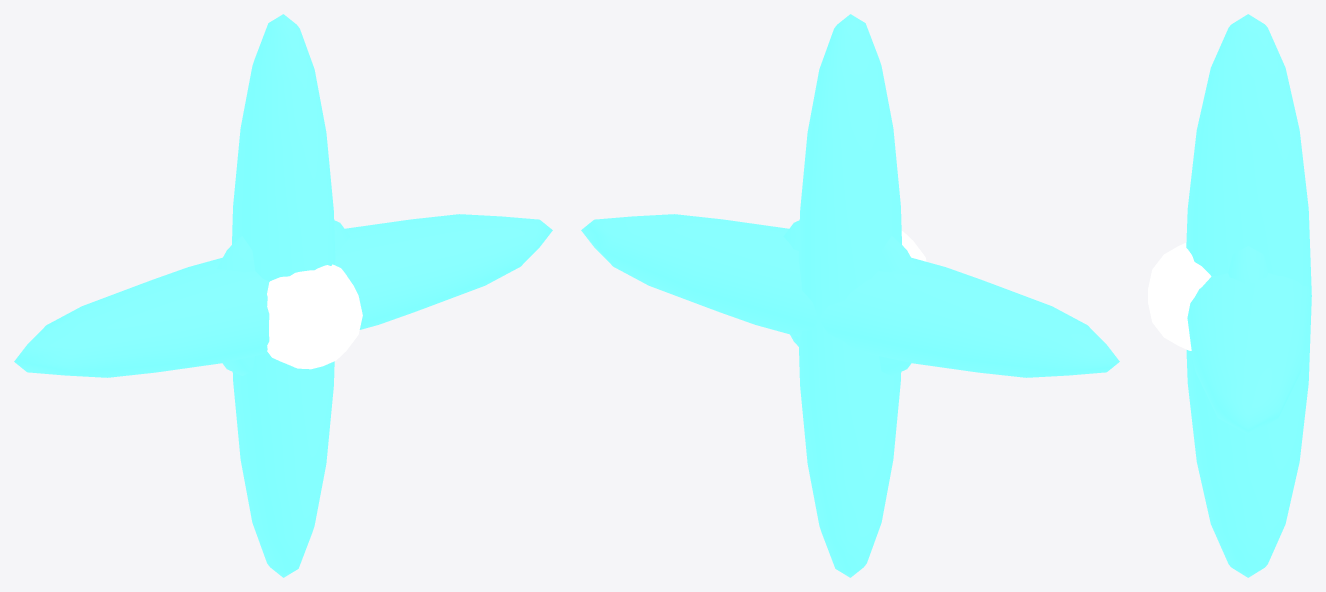
The model's file is cheek_sparkle.glb.
3 renders of one model, left to right at view 1: azimuth 30°, elevation 25°; view 2: azimuth 150°, elevation 25°; view 3: azimuth 270°, elevation 25°, orthographic.
Size of the model in its own units: 0.242 by 0.242 by 0.0637.
